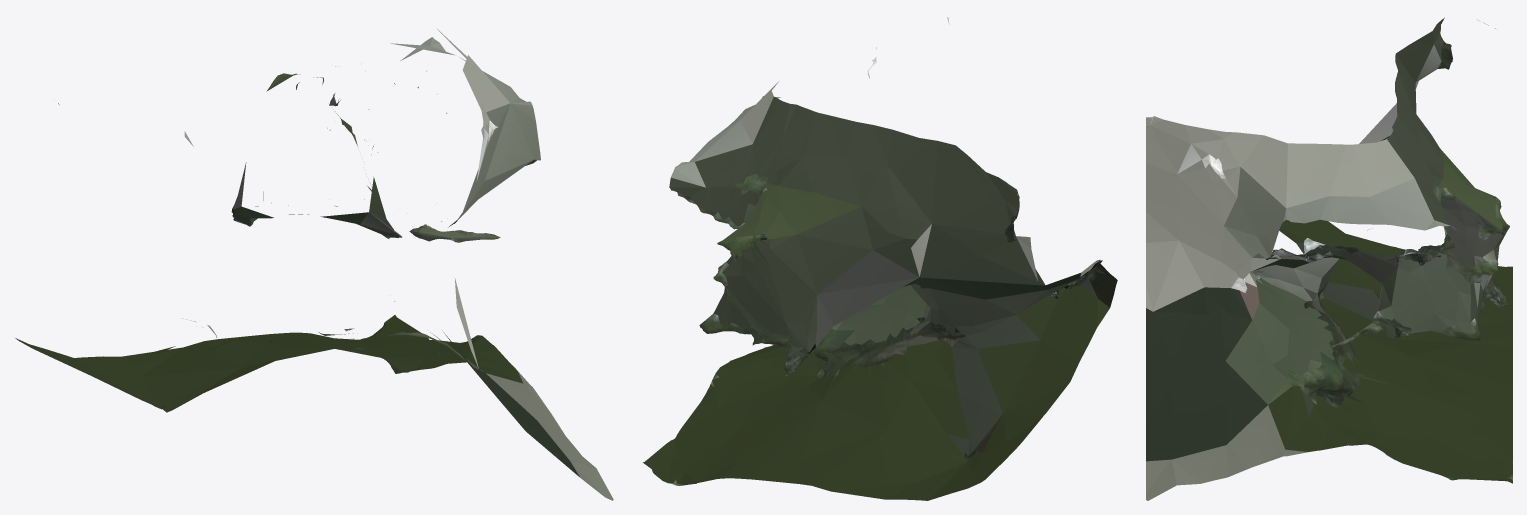
3 views of the same model, side by side, from view 1: azimuth 30°, elevation 25°; view 2: azimuth 150°, elevation 25°; view 3: azimuth 270°, elevation 25° (orthographic). The views are drawn at different scales.
Bounding box in the file's own units: 3.93 × 3.93 × 3.93.
Materials: 1 (1 with a texture image).
